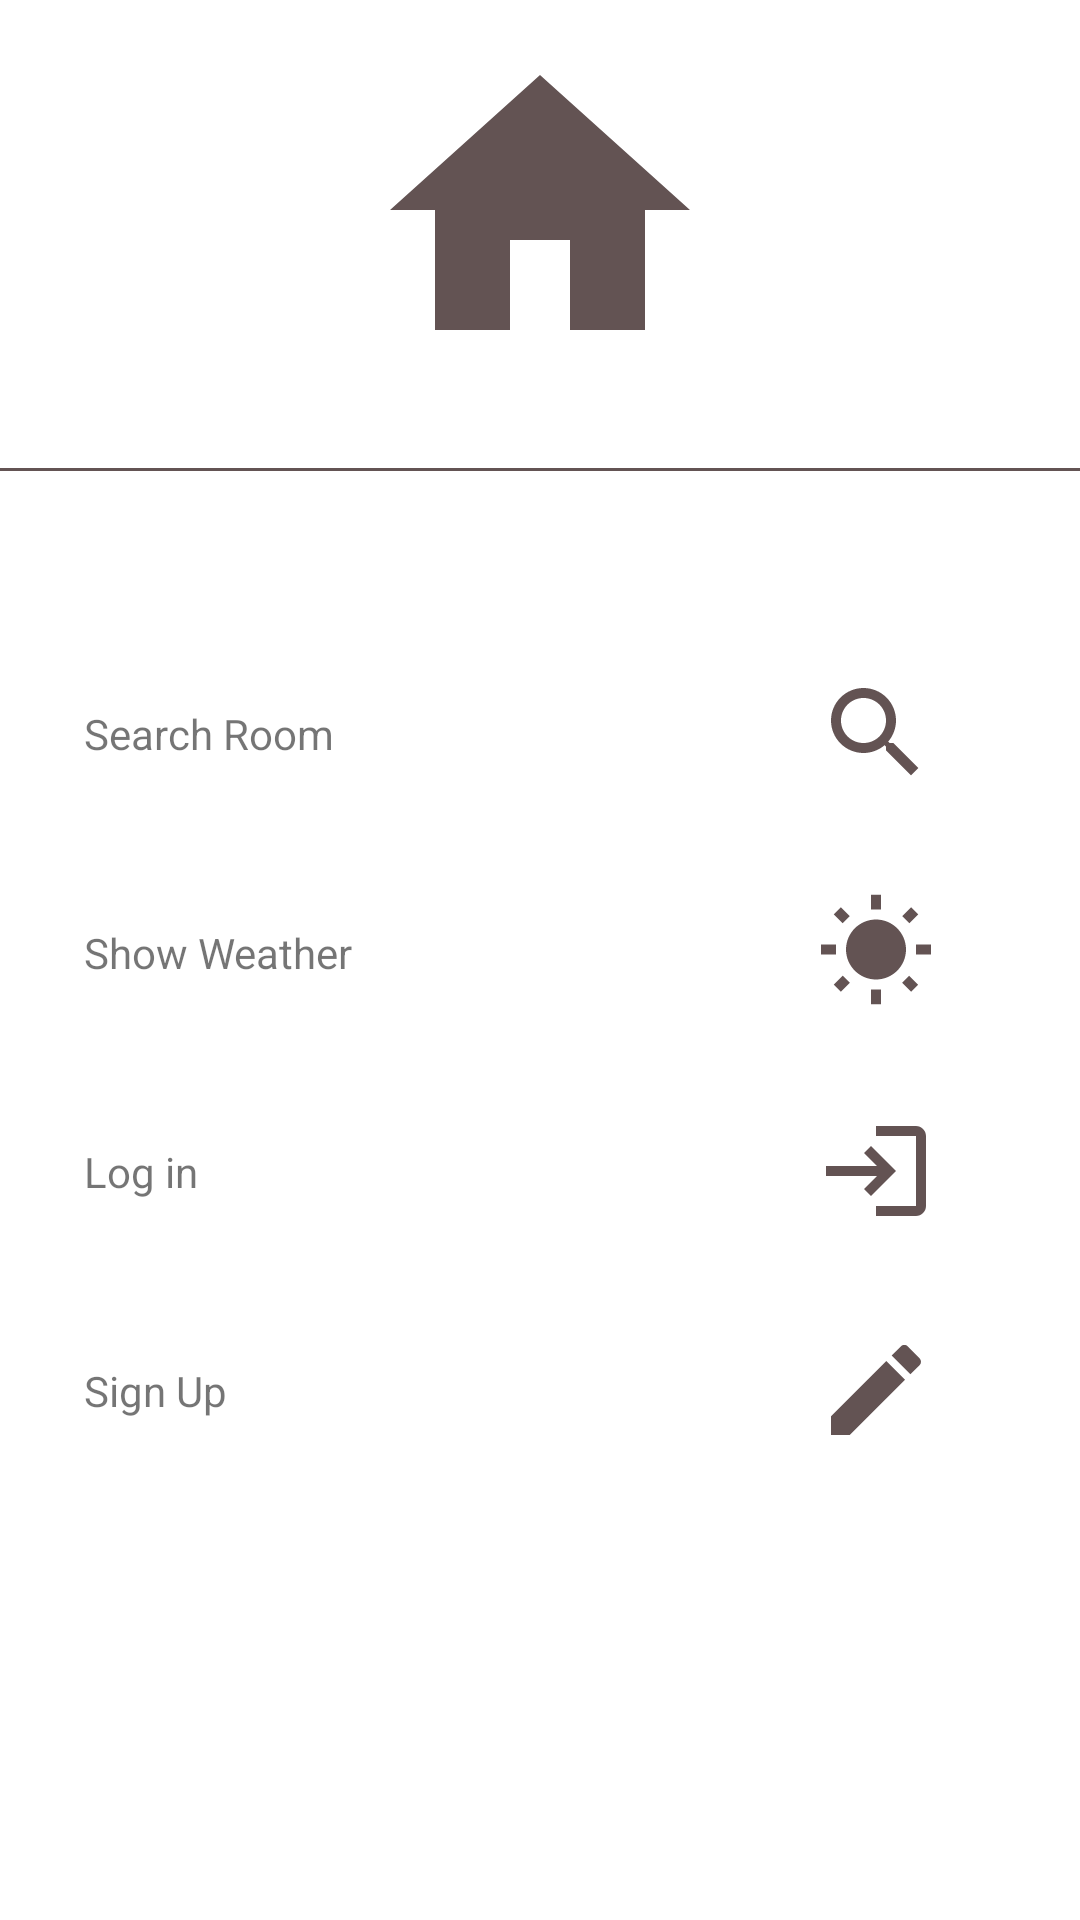

Where to tap for icons on this 1080 x 1920 app screen, as [x,y]:
create: [876,1390]
home: [540,202]
